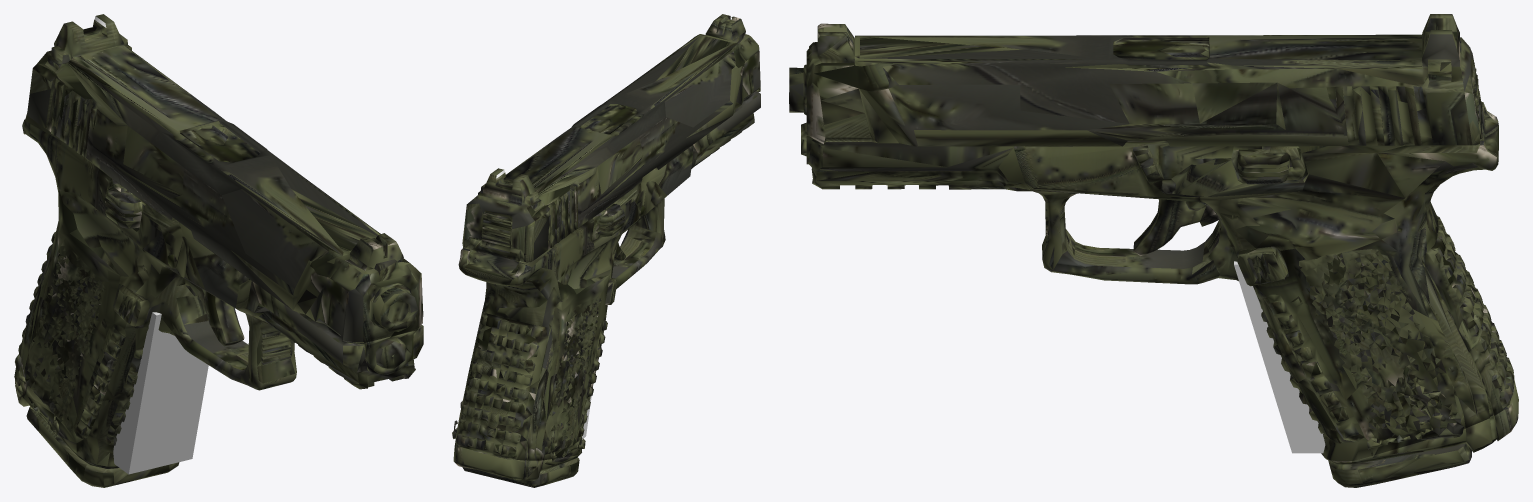
The picture shows the model from 3 angles, left to right: view 1: azimuth 30°, elevation 25°; view 2: azimuth 150°, elevation 25°; view 3: azimuth 270°, elevation 25°; orthographic projection. The views are drawn at different scales.
Parts seen in each view (by area): view 1: Body, Bolt, Magazine; view 2: Body, Bolt, Magazine; view 3: Body, Bolt, Magazine.
Boxes of the visible parts, x1=… form: Body: x1=14, y1=113, x2=423, y2=468; Bolt: x1=27, y1=14, x2=423, y2=342; Magazine: x1=15, y1=312, x2=208, y2=487; Body: x1=452, y1=90, x2=760, y2=461; Bolt: x1=462, y1=14, x2=760, y2=262; Magazine: x1=453, y1=396, x2=591, y2=487; Body: x1=801, y1=101, x2=1514, y2=462; Bolt: x1=789, y1=14, x2=1481, y2=146; Magazine: x1=1234, y1=261, x2=1518, y2=487.
Size of the model in its own units: 0.0706 by 0.2117 by 0.3153.
